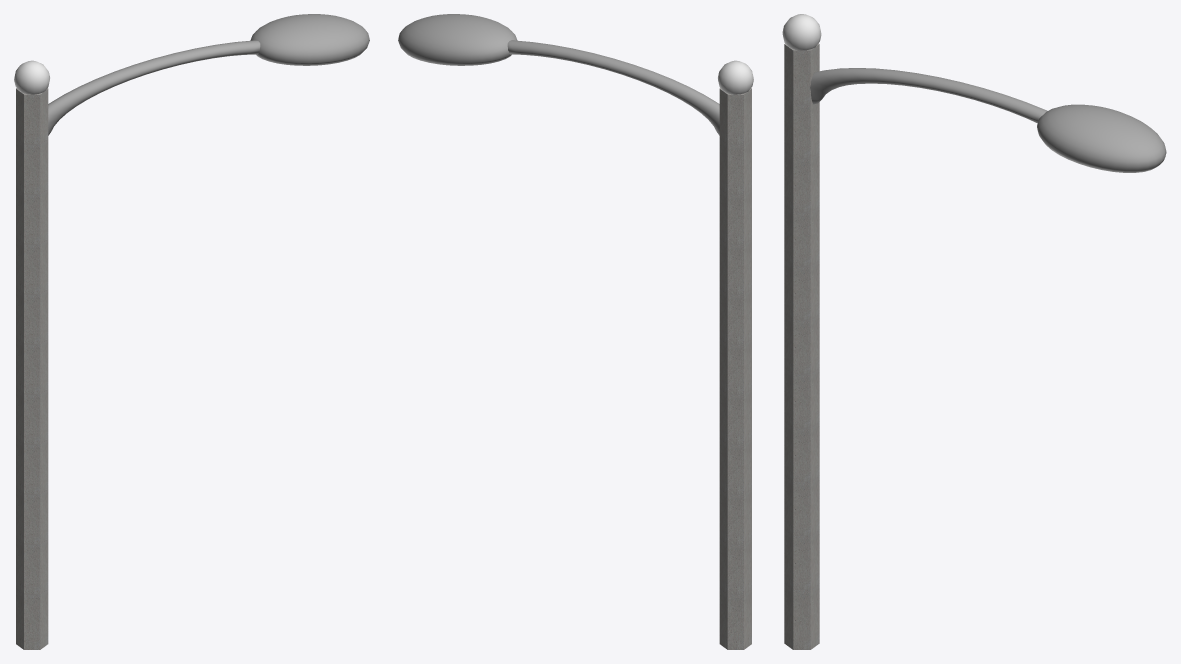
Rendered from Street Light.glb.
The picture shows the model from 3 angles, left to right: view 1: azimuth 30°, elevation 25°; view 2: azimuth 150°, elevation 25°; view 3: azimuth 330°, elevation 25°; orthographic projection. The views are drawn at different scales.
Parts seen in each view (by area): view 1: Pole_Cylinder, LightPart_Sphere, Torus.001, Sphere_Sphere.001; view 2: Pole_Cylinder, LightPart_Sphere, Torus.001, Sphere_Sphere.001; view 3: Pole_Cylinder, LightPart_Sphere, Torus.001, Sphere_Sphere.001.
Part boxes in pixels (x1=…): Pole_Cylinder: x1=16, y1=88, x2=48, y2=649; LightPart_Sphere: x1=250, y1=14, x2=369, y2=65; Torus.001: x1=48, y1=40, x2=260, y2=135; Sphere_Sphere.001: x1=14, y1=60, x2=49, y2=94; Pole_Cylinder: x1=719, y1=88, x2=751, y2=649; LightPart_Sphere: x1=398, y1=14, x2=517, y2=65; Torus.001: x1=507, y1=40, x2=719, y2=135; Sphere_Sphere.001: x1=718, y1=60, x2=753, y2=94; Pole_Cylinder: x1=784, y1=43, x2=819, y2=649; LightPart_Sphere: x1=1037, y1=104, x2=1166, y2=172; Torus.001: x1=810, y1=68, x2=1047, y2=123; Sphere_Sphere.001: x1=782, y1=14, x2=821, y2=50.
Size of the model in its own units: 2.51 by 3.99 by 0.549.
4 materials, 1 textured.
